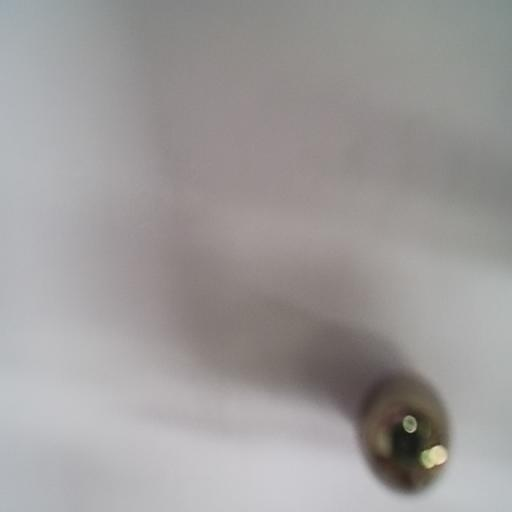steel-ball: (357, 360, 462, 500)
